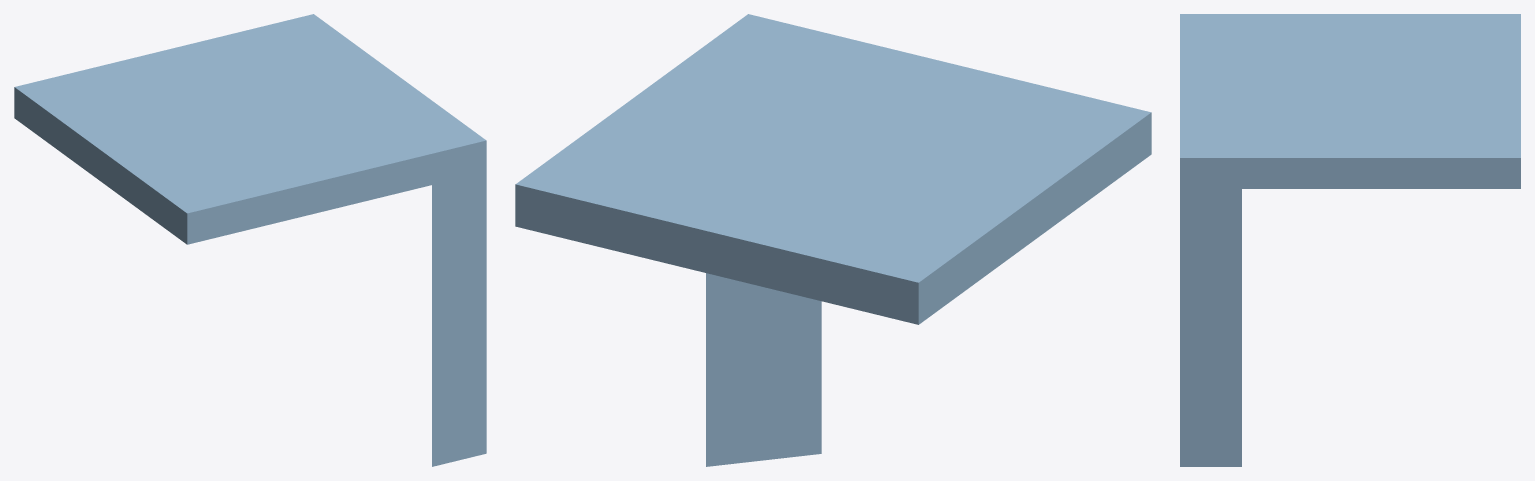
File: EspacioRedSocialEsquinaAperturaInteriorAltoNS.gltf
3 renders of one model, left to right at view 1: azimuth 30°, elevation 25°; view 2: azimuth 150°, elevation 25°; view 3: azimuth 270°, elevation 25°, orthographic. The views are drawn at different scales.
Visible parts, largest first — view 1: Cubo.37; view 2: Cubo.37; view 3: Cubo.37.
Part boxes in pixels (x1,y1,x2,y2): Cubo.37: (14,14,486,466); Cubo.37: (515,14,1151,466); Cubo.37: (1180,14,1520,466).
Bounding box in the file's own units: 2 × 2 × 2.
1 material, 1 textured.
